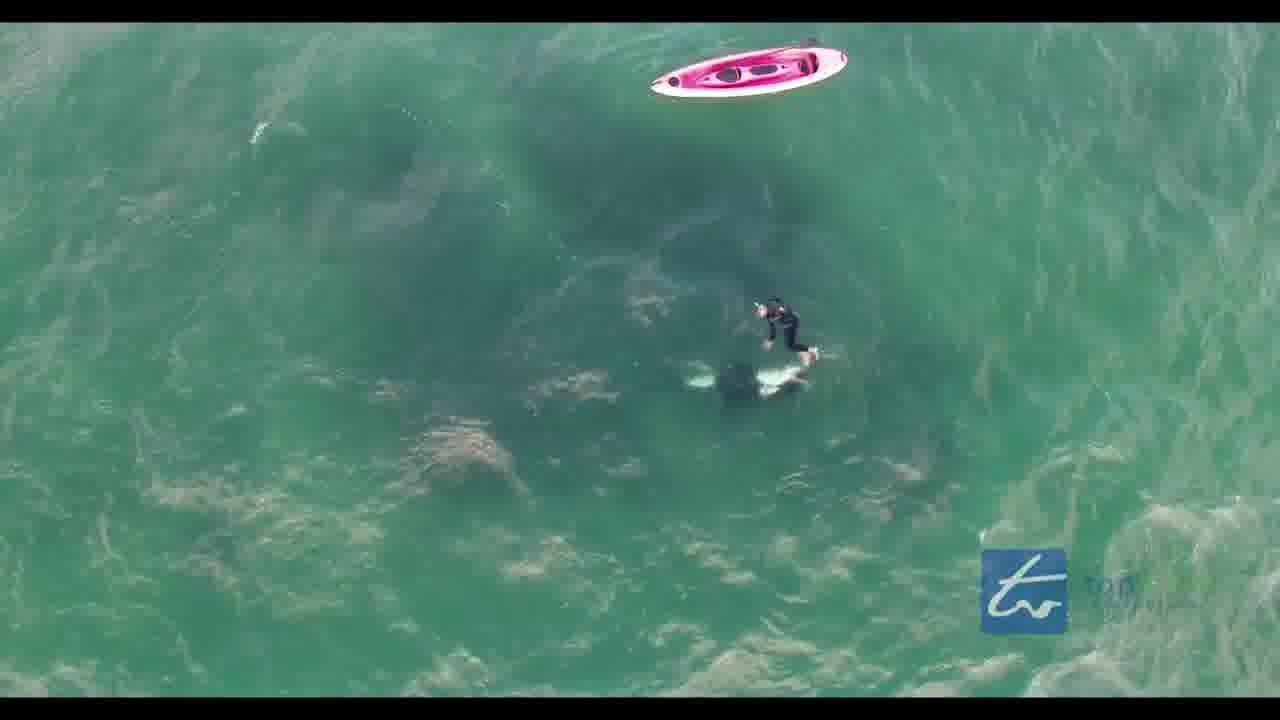human: (742, 289, 812, 354)
